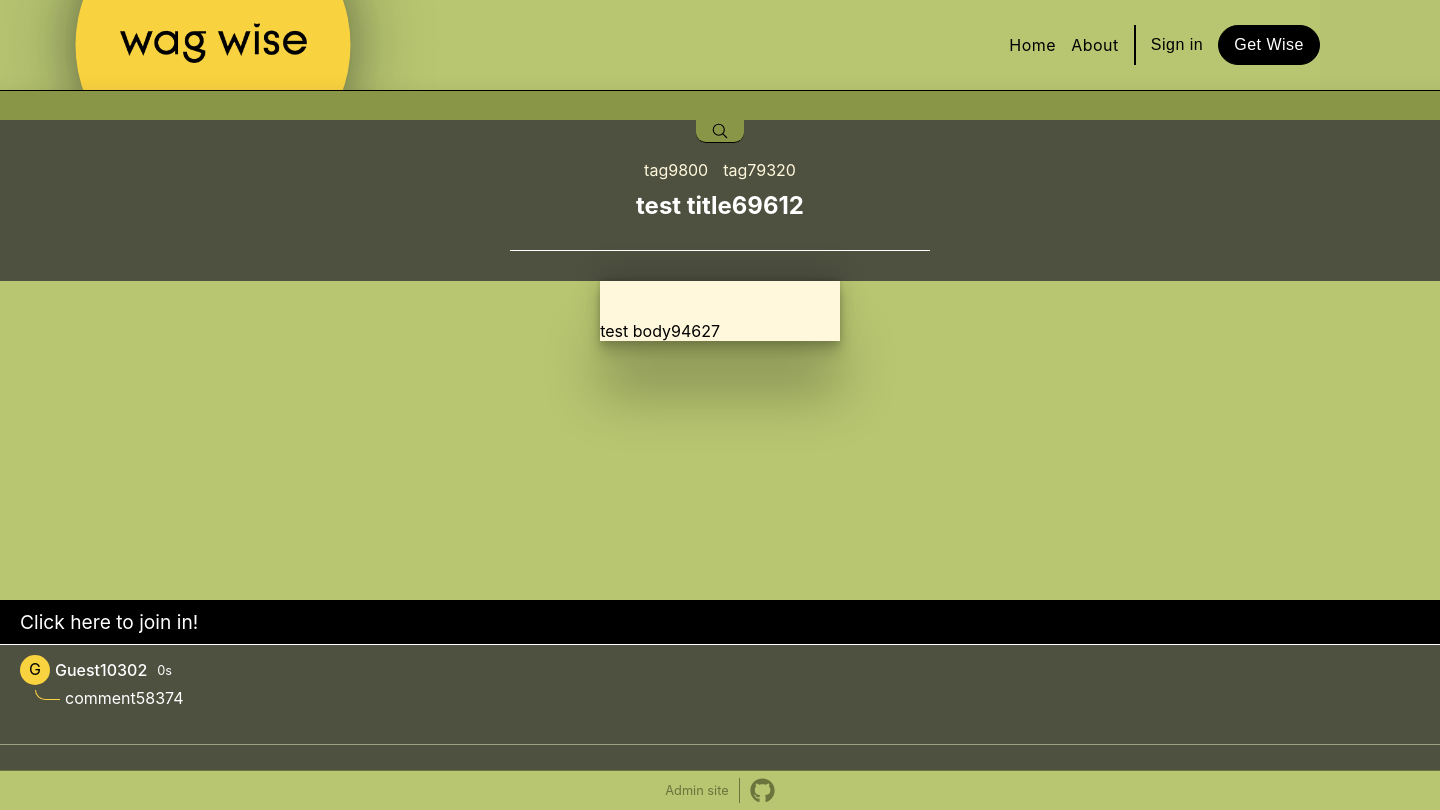
Test: Article page user event tests › Signed out user is shown sign up page up clicking join in button
Click the button "Click here to join in!" at (109, 622), box top-left (0, 600), bottom-right (1439, 645)
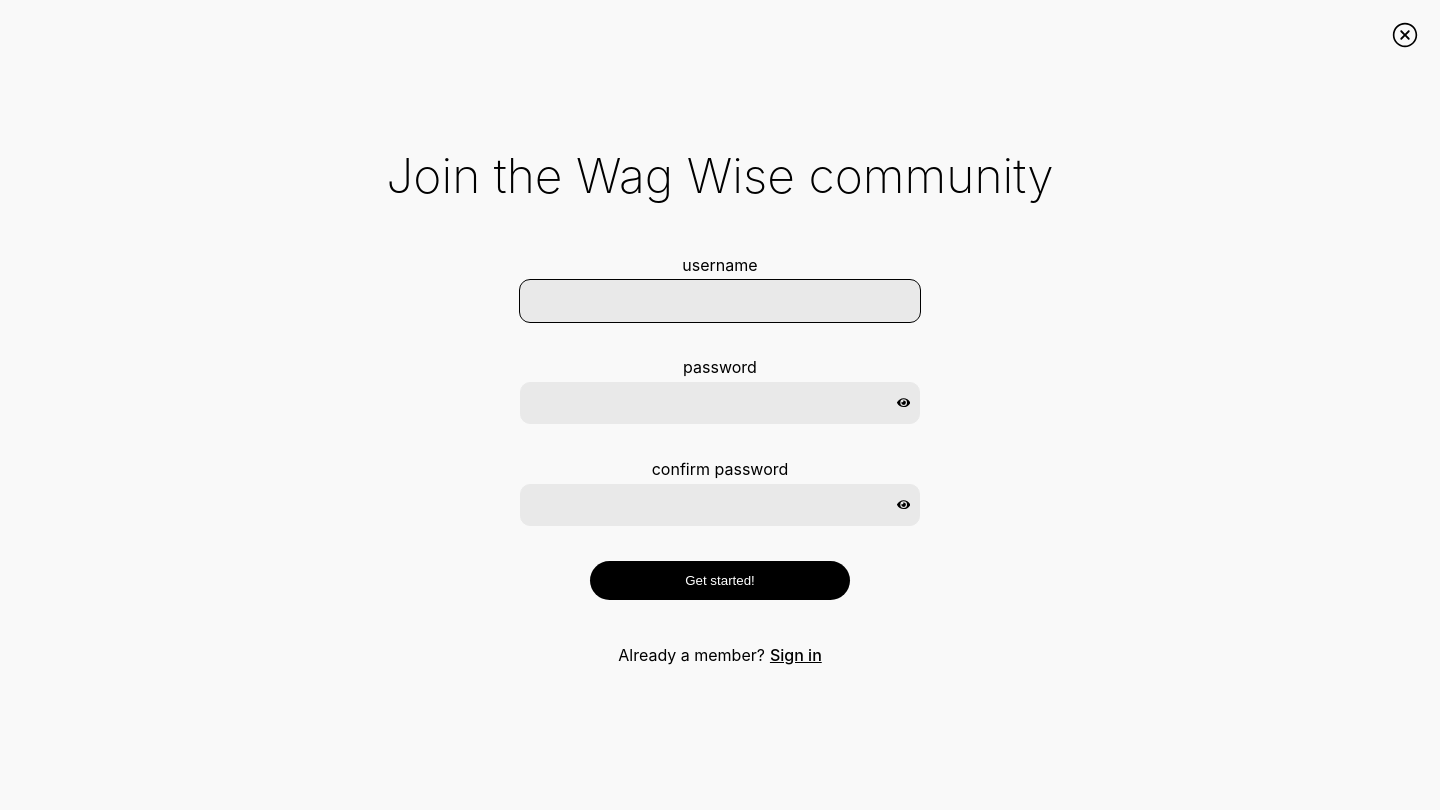
Expected: the heading "Join the Wag Wise community" is shown, top-left (386, 146), bottom-right (1054, 204)
